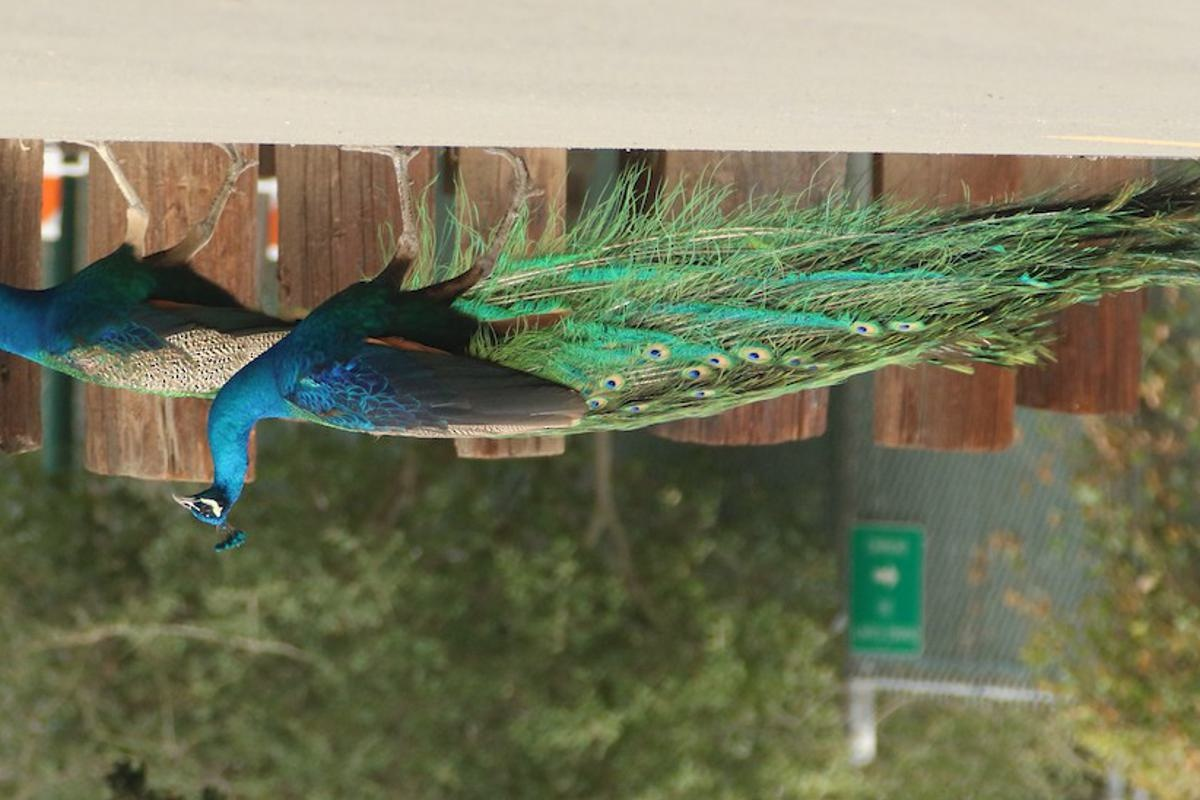peacock: (153, 214, 1034, 547)
